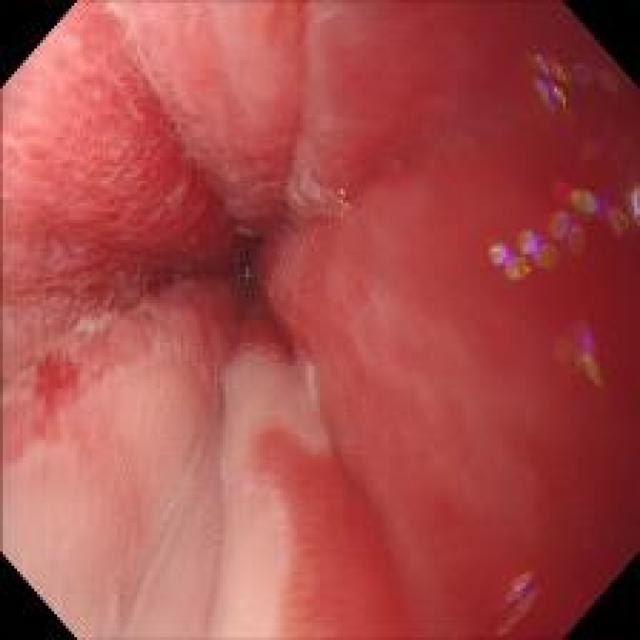blur: (52, 55, 495, 610)
bubbles: (330, 175, 361, 214), (232, 252, 259, 289), (162, 268, 190, 286)
color misalignment: (484, 182, 625, 280), (546, 309, 610, 395), (525, 49, 586, 120), (492, 555, 542, 628), (586, 60, 618, 98), (622, 181, 638, 229)
